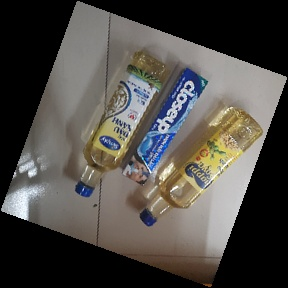CloseUp Tuyet: (121, 65, 209, 192)
Happy Soya: (139, 104, 262, 230)
Simply: (73, 49, 171, 198)
